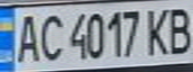0: (84, 8, 106, 60)
1: (103, 7, 127, 58)
4: (63, 8, 87, 61)
7: (121, 7, 145, 57)
A: (9, 10, 42, 63)
B: (163, 3, 193, 55)
C: (36, 10, 66, 63)
K: (142, 3, 172, 56)
